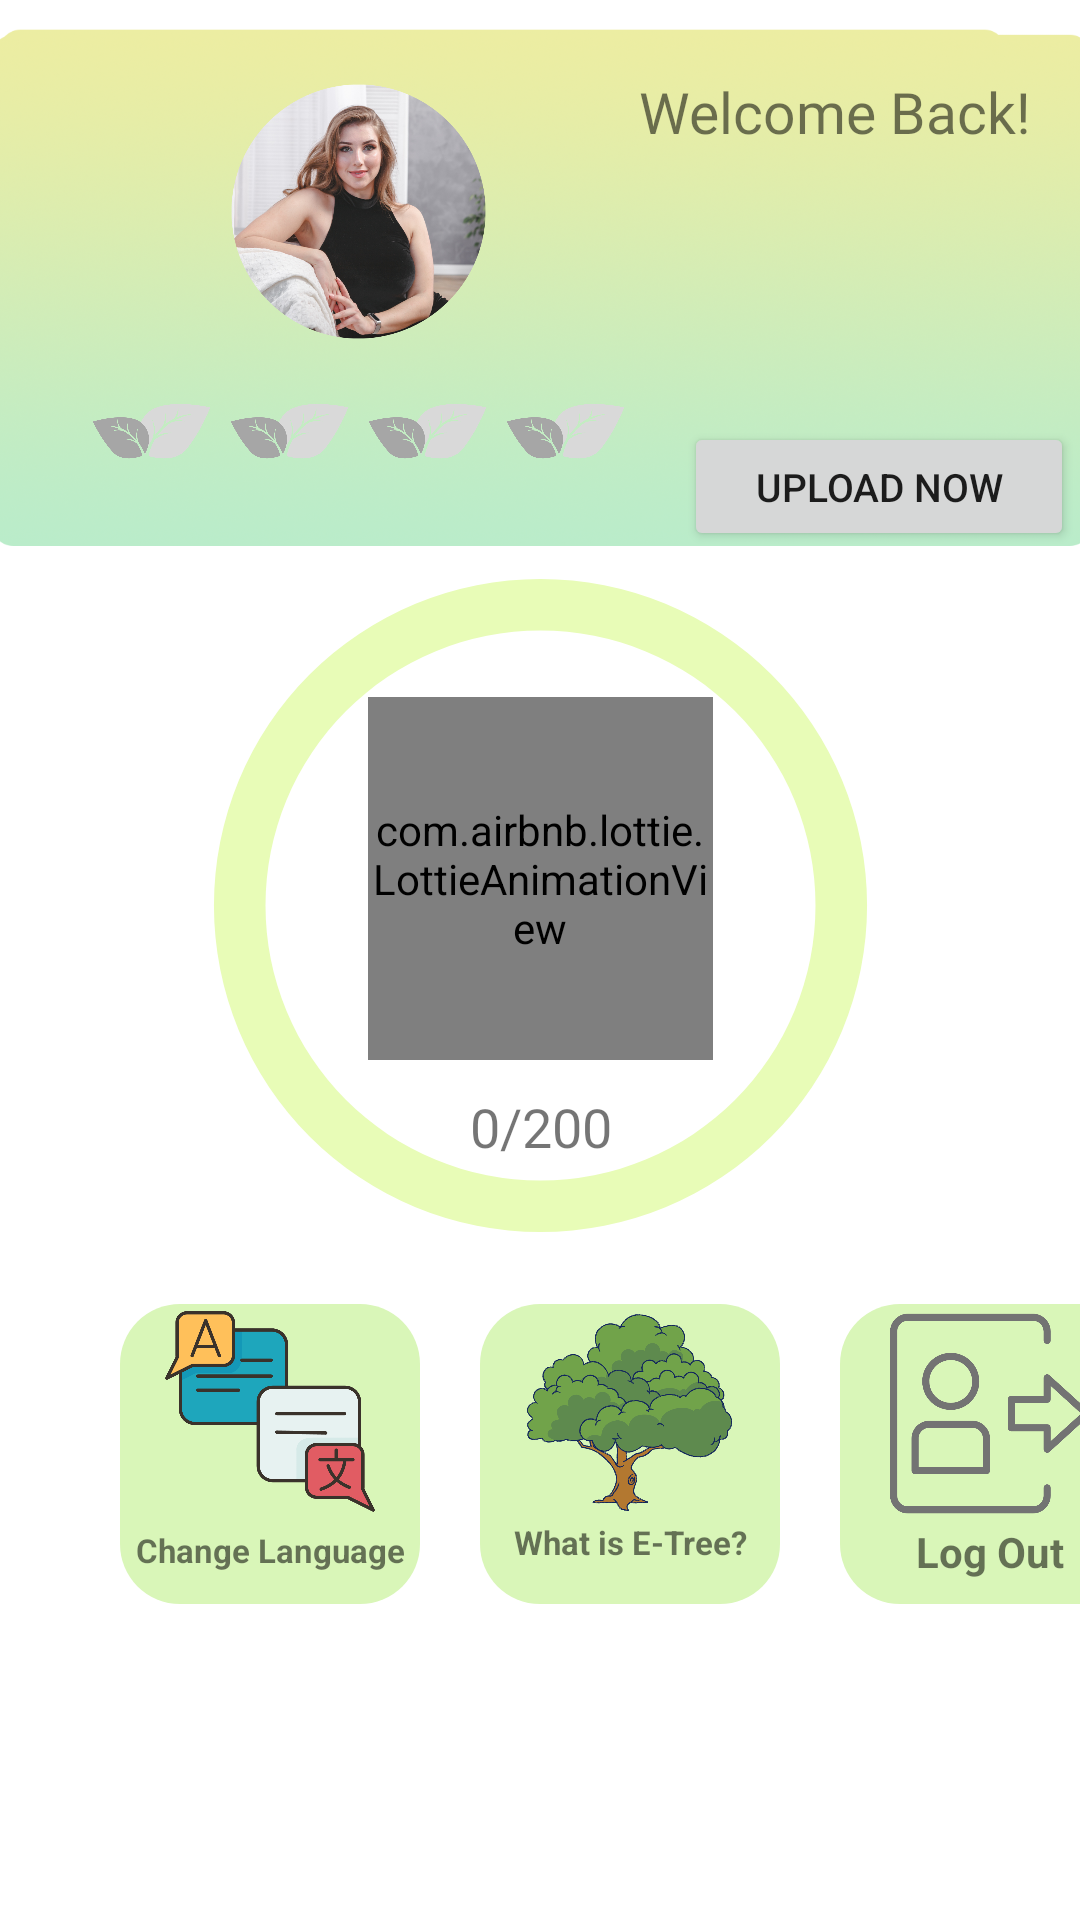

Point at icon controls on the screen. Image size 1080 × 1920, points as (x,y).
leave greey: (151,431), (289,431), (427,431), (565,431)
profile: (358,211)
